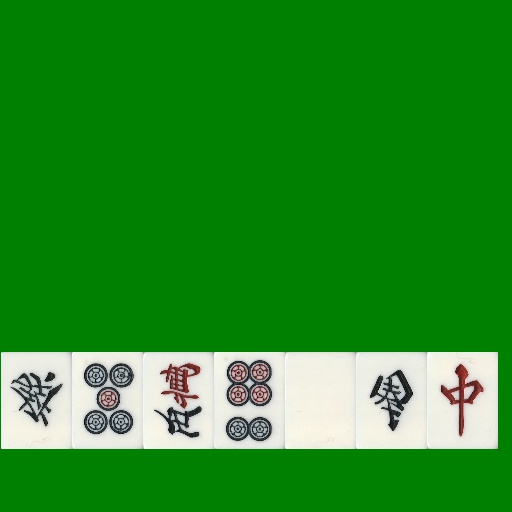5m: (143, 352, 214, 449)
5p: (72, 352, 143, 449)
6p: (214, 352, 285, 449)
hatsu: (1, 352, 72, 449)
south: (356, 352, 427, 449)
tyun: (427, 352, 498, 449)
white: (285, 352, 356, 449)
